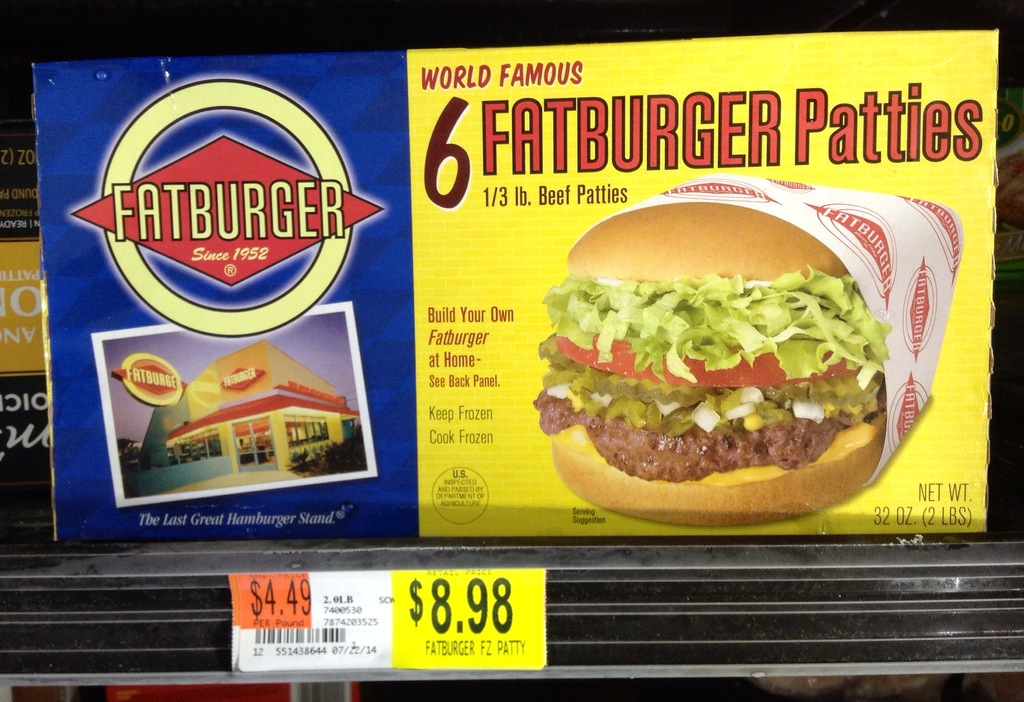Hamburger: (540, 197, 885, 513)
